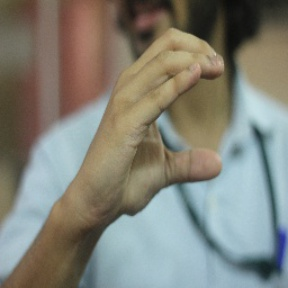C: (114, 24, 235, 197)
